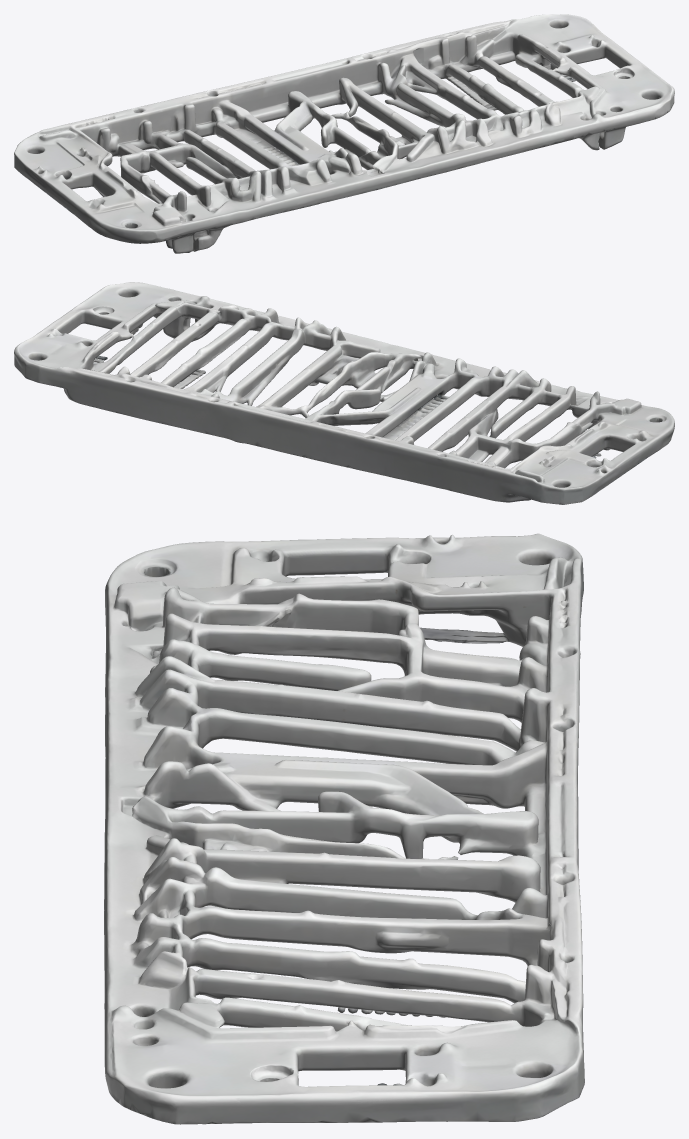
3 views of the same model, one above another, from view 1: azimuth 30°, elevation 25°; view 2: azimuth 150°, elevation 25°; view 3: azimuth 270°, elevation 25° (orthographic). The views are drawn at different scales.
Visible parts, largest first — view 1: tripo_node_b96fba5b-45db-4df8-b32f-ff352cb2bdd2; view 2: tripo_node_b96fba5b-45db-4df8-b32f-ff352cb2bdd2; view 3: tripo_node_b96fba5b-45db-4df8-b32f-ff352cb2bdd2.
Part boxes in pixels (x1=…): tripo_node_b96fba5b-45db-4df8-b32f-ff352cb2bdd2: x1=14, y1=14, x2=674, y2=253; tripo_node_b96fba5b-45db-4df8-b32f-ff352cb2bdd2: x1=14, y1=282, x2=674, y2=504; tripo_node_b96fba5b-45db-4df8-b32f-ff352cb2bdd2: x1=104, y1=533, x2=584, y2=1124.
Size of the model in its own units: 0.9787 by 0.0973 by 0.3565.
1 material, 1 textured.
